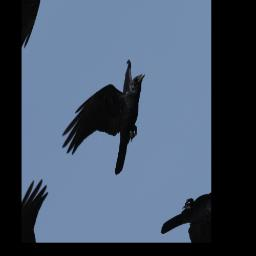Crow: (56, 39, 167, 201)
